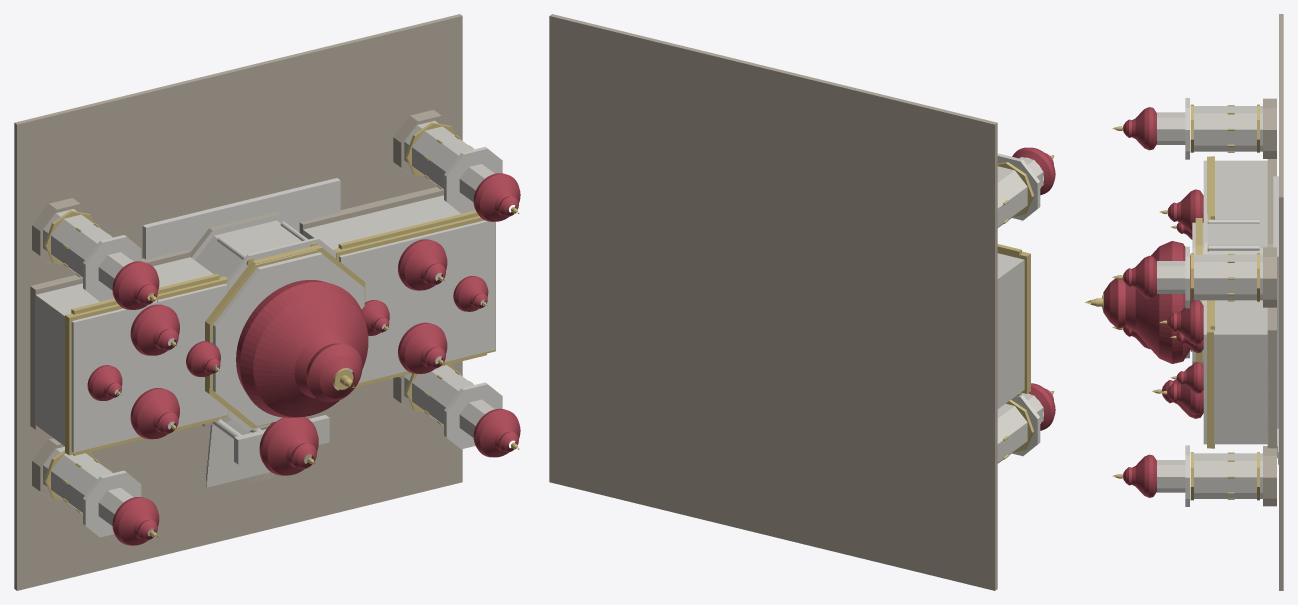
File: arabian_palace_v7.glb
3 views of the same model, side by side, from view 1: azimuth 30°, elevation 25°; view 2: azimuth 150°, elevation 25°; view 3: azimuth 270°, elevation 25° (orthographic). The views are drawn at different scales.
Visible parts, largest first — view 1: Main palace foundation, Great crimson central dome, Wing roof platform, Wing roof platform_1, Central raised foundation, Central roof platform, Wing main walls, Wing main walls_1, Central keep walls, Entrance red dome, Main palace tower shaft_3, Main palace tower shaft_1 (+34 smaller); view 2: Main palace foundation, Wing main walls, Main palace tower shaft_1, Main palace tower shaft, Wing upper cornice, Main palace tower balcony_1, Main palace tower red dome_1; view 3: Wing main walls_1, Great crimson central dome, Wing main walls, Main palace tower shaft_3, Main palace tower shaft_1, Main palace tower shaft_2, Main palace foundation, Central keep walls, Wing foundation_1, Wing crimson dome_3, Main palace tower red dome_1, Main palace tower red dome_2 (+21 smaller).
Part boxes in pixels (x1=…): Main palace foundation: x1=14, y1=14, x2=462, y2=590; Great crimson central dome: x1=236, y1=280, x2=368, y2=417; Wing roof platform: x1=71, y1=284, x2=228, y2=452; Wing roof platform_1: x1=339, y1=220, x2=495, y2=383; Central raised foundation: x1=142, y1=178, x2=340, y2=259; Central roof platform: x1=213, y1=252, x2=364, y2=425; Wing main walls: x1=35, y1=257, x2=213, y2=445; Wing main walls_1: x1=303, y1=195, x2=475, y2=249; Central keep walls: x1=195, y1=220, x2=316, y2=387; Entrance red dome: x1=259, y1=417, x2=318, y2=475; Main palace tower shaft_3: x1=404, y1=120, x2=473, y2=189; Main palace tower shaft_1: x1=43, y1=209, x2=112, y2=277; Main palace foundation: x1=549, y1=14, x2=997, y2=590; Wing main walls: x1=997, y1=253, x2=1024, y2=408; Main palace tower shaft_1: x1=997, y1=166, x2=1027, y2=227; Main palace tower shaft: x1=997, y1=403, x2=1027, y2=463; Wing upper cornice: x1=997, y1=251, x2=1030, y2=393; Main palace tower balcony_1: x1=997, y1=153, x2=1040, y2=220; Main palace tower red dome_1: x1=1012, y1=147, x2=1055, y2=195; Wing main walls_1: x1=1214, y1=300, x2=1268, y2=444; Great crimson central dome: x1=1102, y1=241, x2=1190, y2=363; Wing main walls: x1=1215, y1=160, x2=1267, y2=222; Main palace tower shaft_3: x1=1194, y1=254, x2=1262, y2=300; Main palace tower shaft_1: x1=1194, y1=106, x2=1262, y2=151; Main palace tower shaft_2: x1=1194, y1=453, x2=1262, y2=498; Main palace foundation: x1=1279, y1=14, x2=1283, y2=590; Central keep walls: x1=1202, y1=222, x2=1267, y2=365; Wing foundation_1: x1=1267, y1=307, x2=1276, y2=448; Wing crimson dome_3: x1=1167, y1=300, x2=1203, y2=344; Main palace tower red dome_1: x1=1122, y1=107, x2=1156, y2=150; Main palace tower red dome_2: x1=1122, y1=454, x2=1156, y2=497.
Bounding box in the file's own units: 190 × 190 × 87.25.
